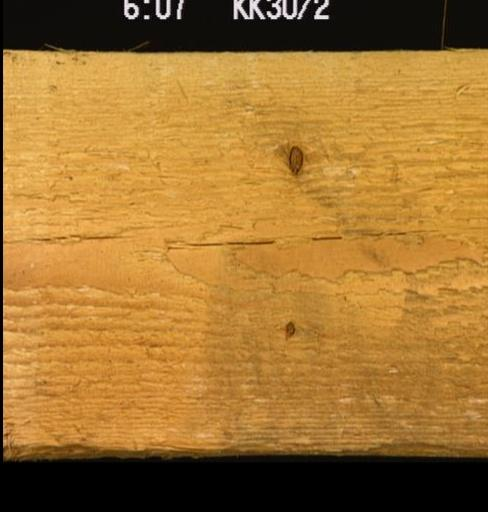dry_knot: (286, 144, 304, 178)
split: (172, 236, 273, 246), (67, 229, 133, 241), (309, 232, 340, 241)
wave: (3, 441, 141, 461)
